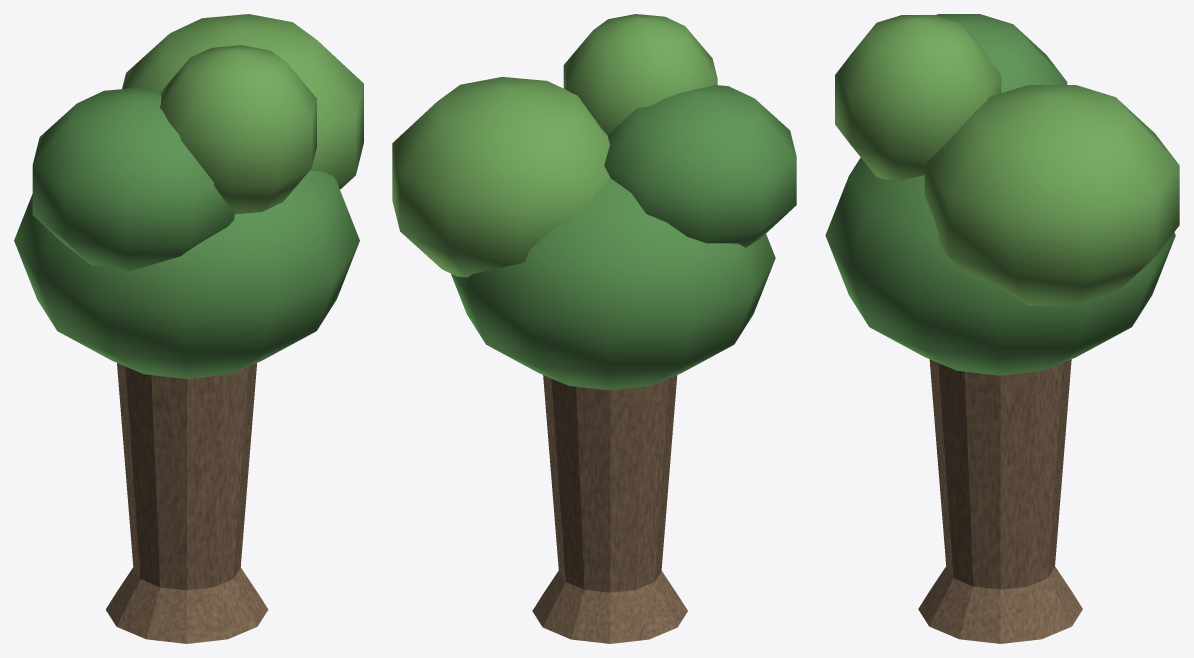
File: tree.glb
3 views of the same model, side by side, from view 1: azimuth 30°, elevation 25°; view 2: azimuth 150°, elevation 25°; view 3: azimuth 270°, elevation 25° (orthographic). The views are drawn at different scales.
Visible parts, largest first — view 1: tr_c1, tr_trunk, tr_c3, tr_c4, tr_c2; view 2: tr_c1, tr_c2, tr_trunk, tr_c3, tr_c4; view 3: tr_c2, tr_trunk, tr_c1, tr_c4, tr_c3.
Part boxes in pixels (x1=…): tr_c1: x1=14, y1=171, x2=359, y2=378; tr_trunk: x1=105, y1=363, x2=268, y2=643; tr_c3: x1=32, y1=87, x2=234, y2=271; tr_c4: x1=160, y1=45, x2=316, y2=214; tr_c2: x1=122, y1=14, x2=363, y2=189; tr_c1: x1=451, y1=178, x2=775, y2=390; tr_c2: x1=392, y1=77, x2=610, y2=277; tr_trunk: x1=532, y1=375, x2=687, y2=643; tr_c3: x1=604, y1=85, x2=796, y2=247; tr_c4: x1=563, y1=14, x2=717, y2=135; tr_c2: x1=924, y1=85, x2=1179, y2=305; tr_trunk: x1=918, y1=359, x2=1082, y2=643; tr_c1: x1=825, y1=157, x2=1175, y2=375; tr_c4: x1=835, y1=15, x2=1001, y2=180; tr_c3: x1=935, y1=14, x2=1067, y2=92.
Bounding box in the file's own units: 0.7742 × 1.27 × 0.6873.
Materials: 3 (1 with a texture image).
